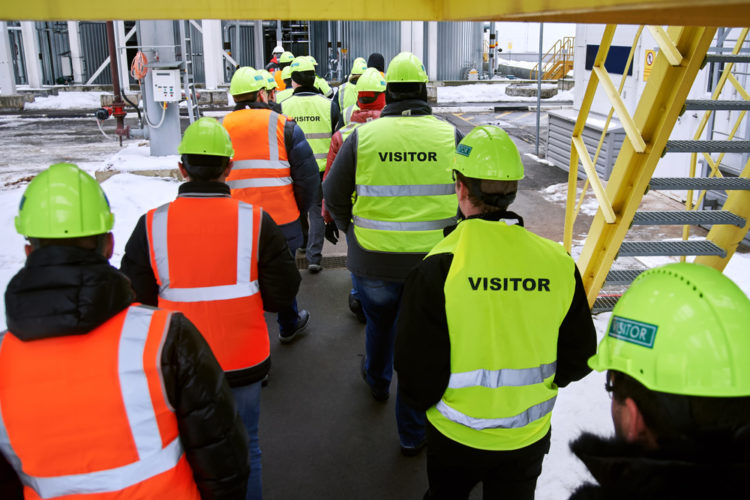Hard Hat: (589, 263, 750, 395), (14, 162, 116, 239), (443, 122, 527, 181), (176, 116, 233, 157), (385, 50, 432, 83), (355, 66, 387, 93), (229, 66, 262, 92), (289, 56, 315, 71), (278, 50, 293, 62), (352, 57, 368, 66)
High Viz: (2, 310, 197, 499), (451, 230, 560, 443), (145, 198, 275, 365), (357, 118, 456, 254), (208, 110, 288, 225), (281, 96, 334, 168)
